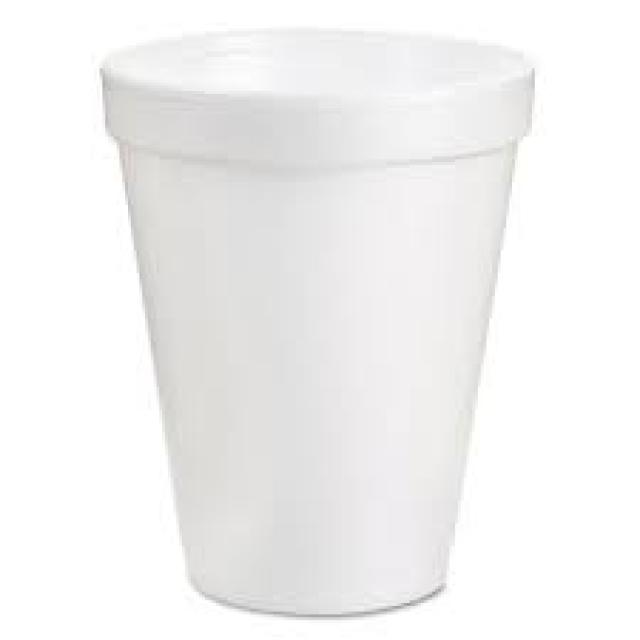cup: (87, 22, 536, 620)
